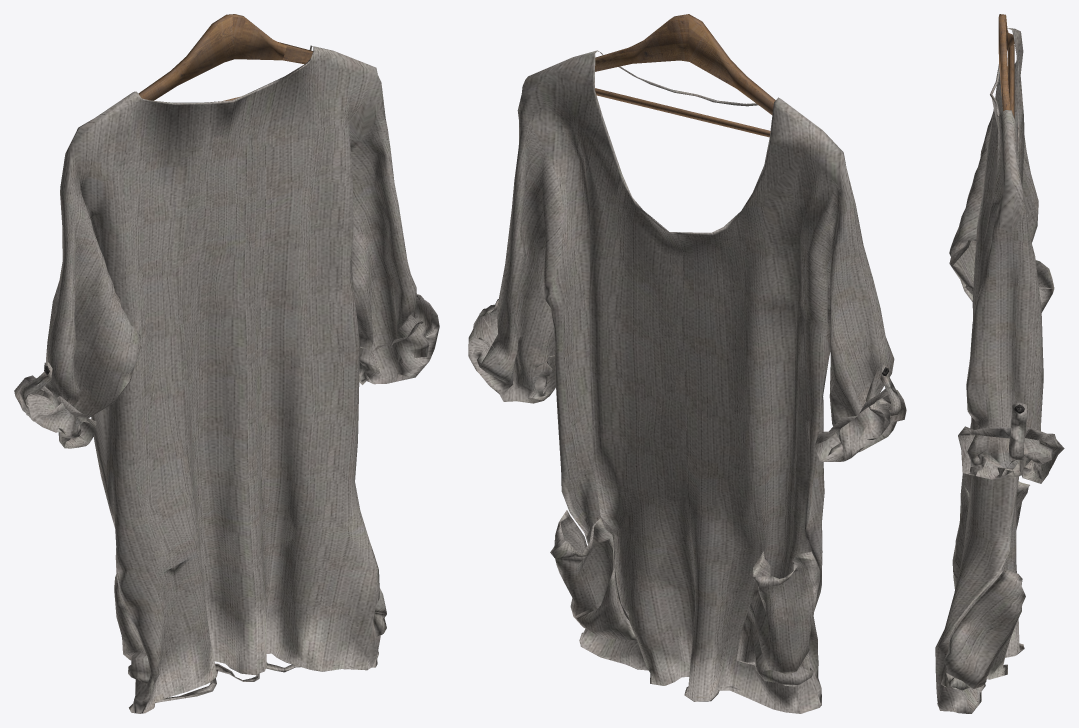
Rendered from hvtop_Clothes_14.glb.
3 renders of one model, left to right at view 1: azimuth 30°, elevation 25°; view 2: azimuth 150°, elevation 25°; view 3: azimuth 270°, elevation 25°, orthographic. The views are drawn at different scales.
Visible parts, largest first — view 1: BP_Clothes_14; view 2: BP_Clothes_14; view 3: BP_Clothes_14.
Boxes of the visible parts, x1,y1,x2,y2 form: BP_Clothes_14: [14, 14, 439, 713]; BP_Clothes_14: [468, 14, 906, 713]; BP_Clothes_14: [935, 14, 1064, 713].
Bounding box in the file's own units: 0.594 × 0.9211 × 0.1669.
Materials: 3 (3 with a texture image).
